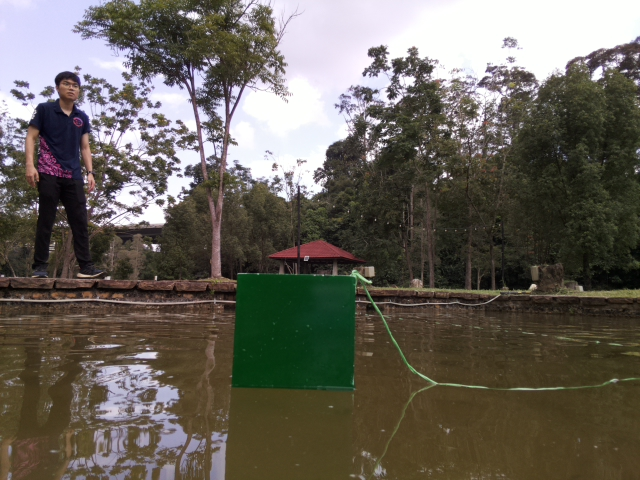obstacle: (230, 272, 356, 392)
